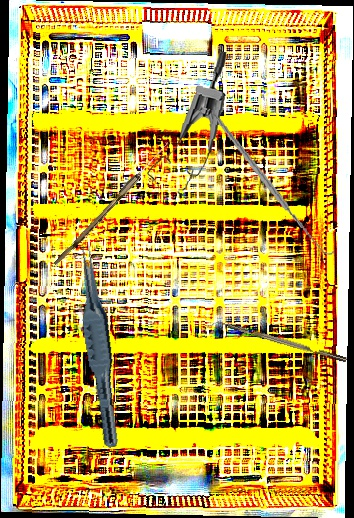Chopper: (206, 315, 348, 370)
Hook Surgical: (212, 98, 335, 269)
Speculum: (144, 47, 230, 200)
Surgical Spoon: (53, 139, 171, 269)
Tissue Forceps: (68, 242, 131, 449)
